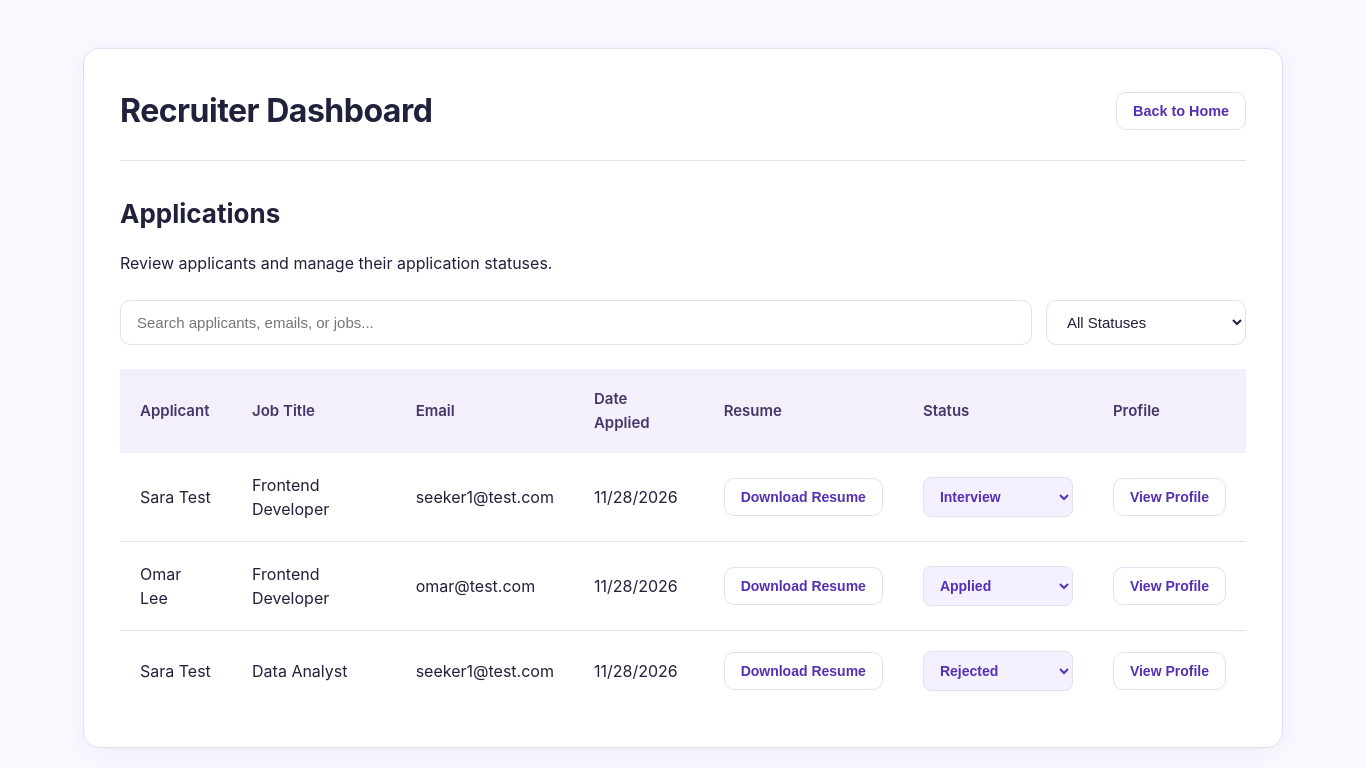
Recruiter Applications page › status management (SCRUM-315) › shows an error message when a status update fails
This screenshot has width=1366, height=768.
Expected: the text "Omar Lee" is shown, [120,542,232,631]
Step 1. Select "Rejected" in the dropdown named "Application status for Omar Lee" → (998,586), box [923,566,1073,606]
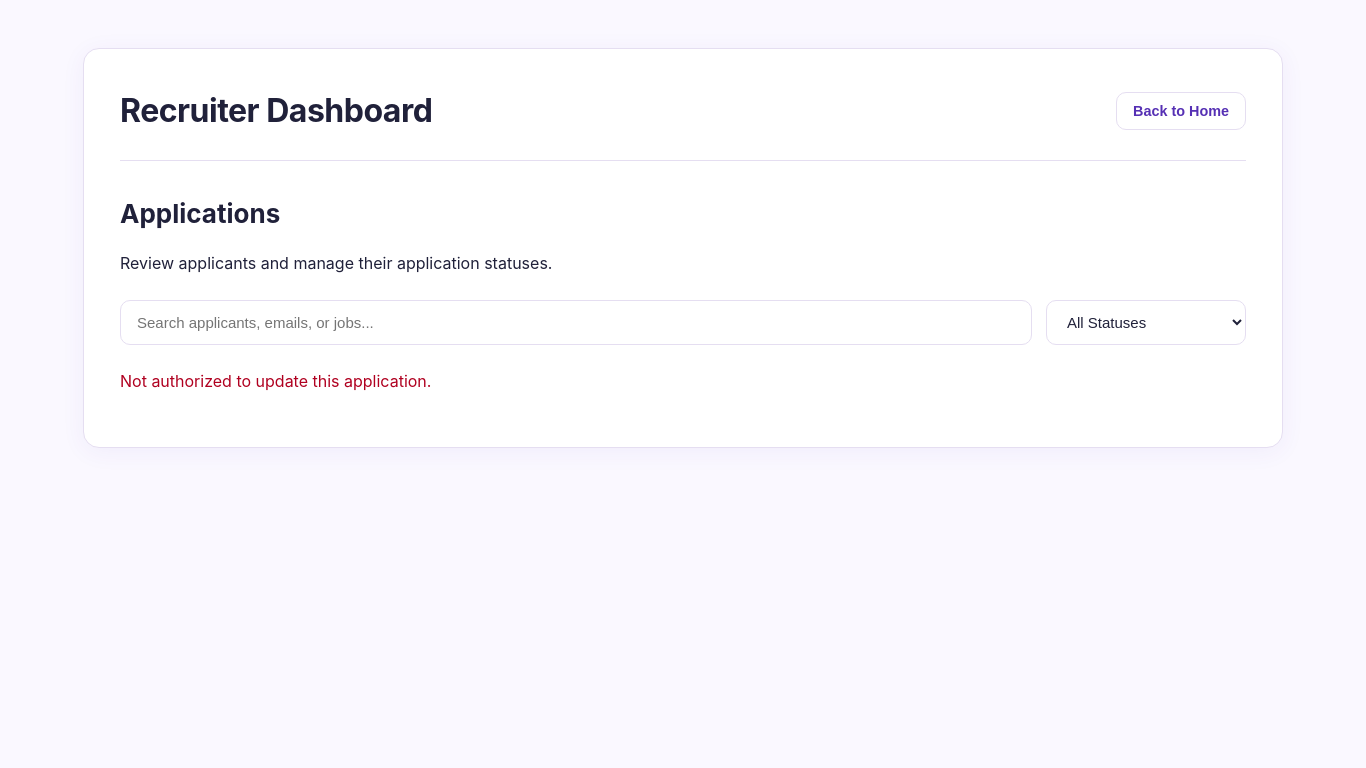
Expected: the text "Not authorized to update this application." is shown, [120,371,431,391]
